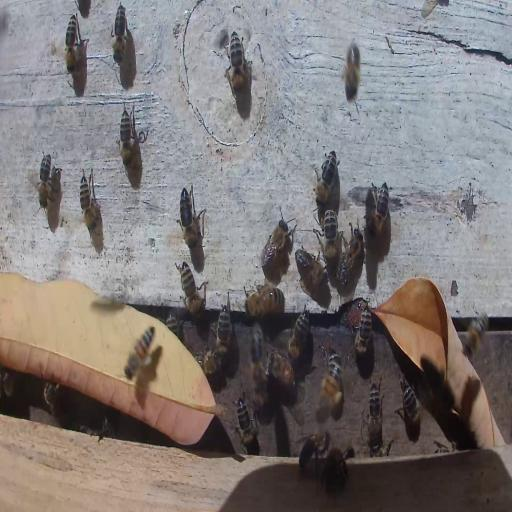bee: (124, 321, 156, 381), (178, 182, 205, 248), (316, 356, 343, 422), (260, 217, 290, 273), (176, 262, 204, 318), (313, 149, 339, 206), (462, 307, 490, 359), (79, 168, 101, 234), (337, 227, 363, 281), (366, 180, 391, 235), (235, 394, 258, 453), (296, 243, 324, 291), (398, 376, 422, 431), (322, 204, 342, 270), (251, 324, 268, 401), (244, 285, 284, 316), (288, 306, 310, 360), (118, 107, 137, 169), (228, 32, 246, 96), (354, 299, 373, 359), (298, 432, 330, 467), (325, 443, 351, 486), (366, 378, 382, 446), (344, 41, 361, 100), (268, 350, 294, 387), (112, 3, 127, 66), (38, 150, 52, 212), (215, 299, 231, 353), (65, 13, 78, 75), (201, 348, 220, 377), (44, 380, 60, 414), (1, 368, 14, 400), (369, 440, 390, 458), (101, 415, 114, 439)
